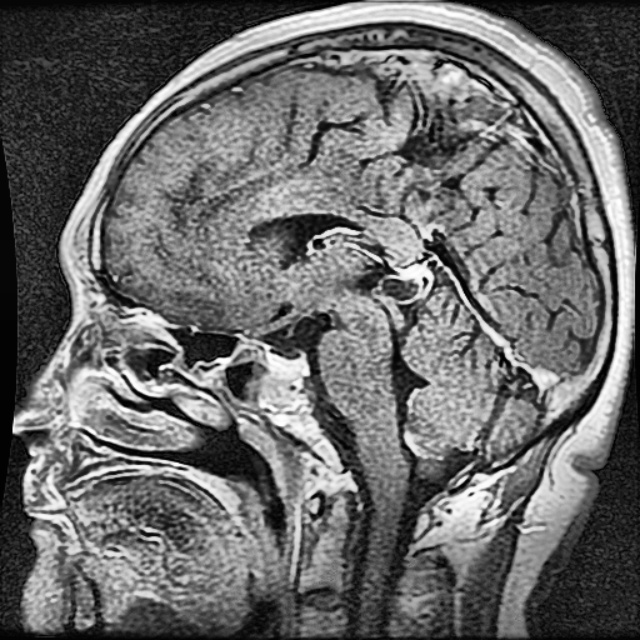Pituitary: (259, 353, 307, 405)
